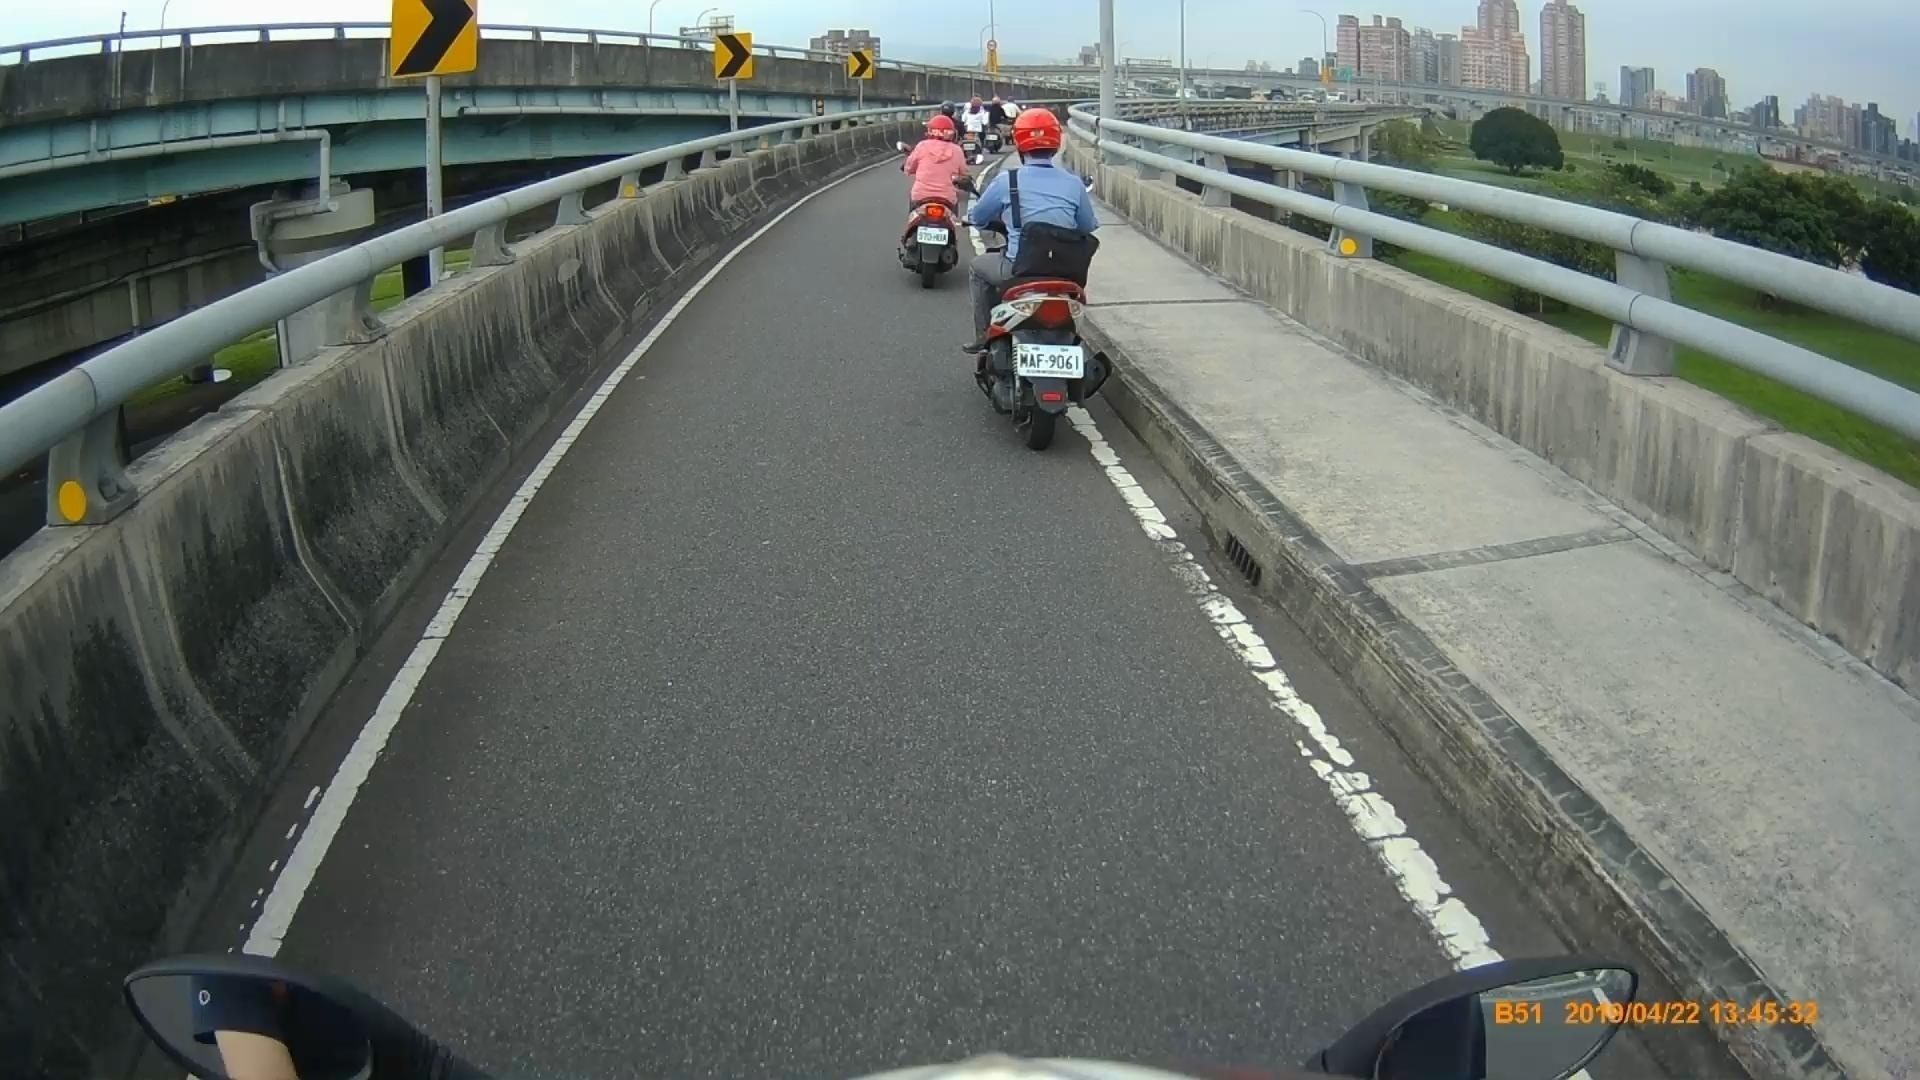License_plate: (1015, 341, 1086, 382), (916, 222, 951, 247)
